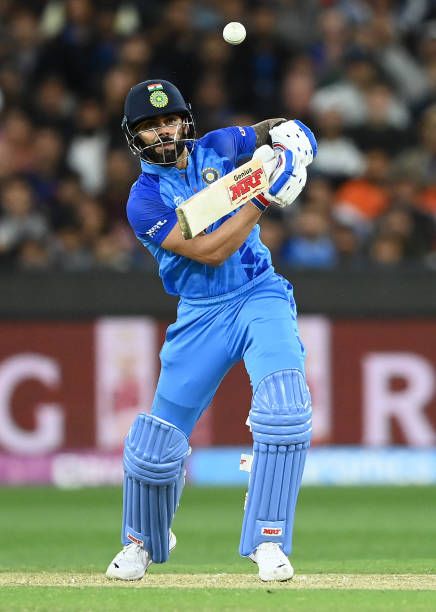bottom left: (170, 199, 189, 218)
bottom right: (182, 227, 204, 249)
top left: (251, 151, 268, 168)
top right: (255, 181, 273, 199)
